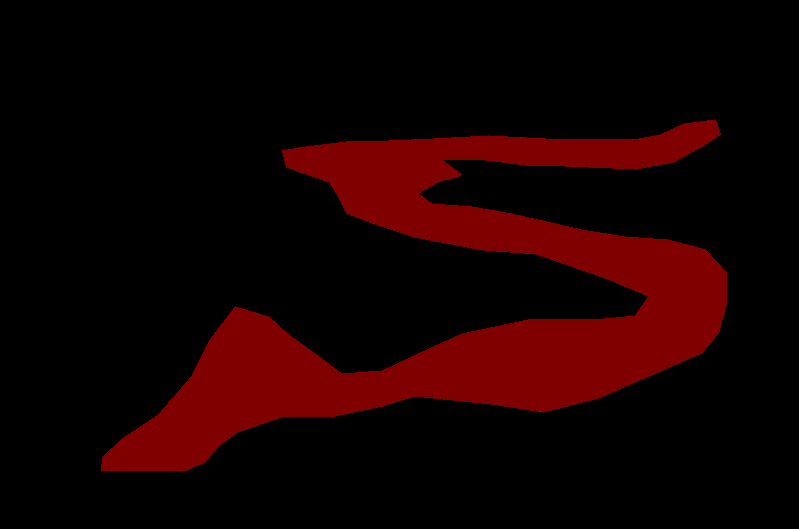fire: (101, 119, 726, 470)
